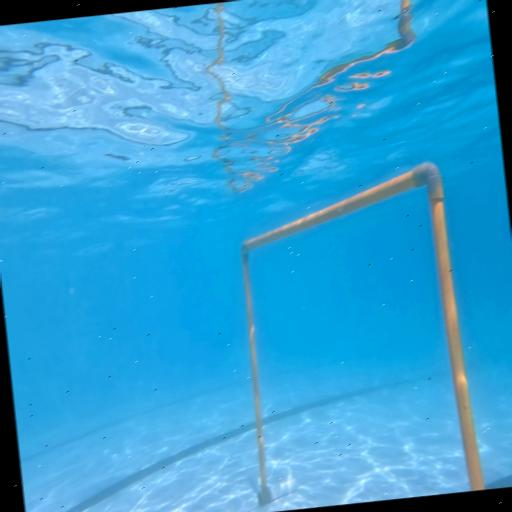gate: (225, 159, 485, 512)
